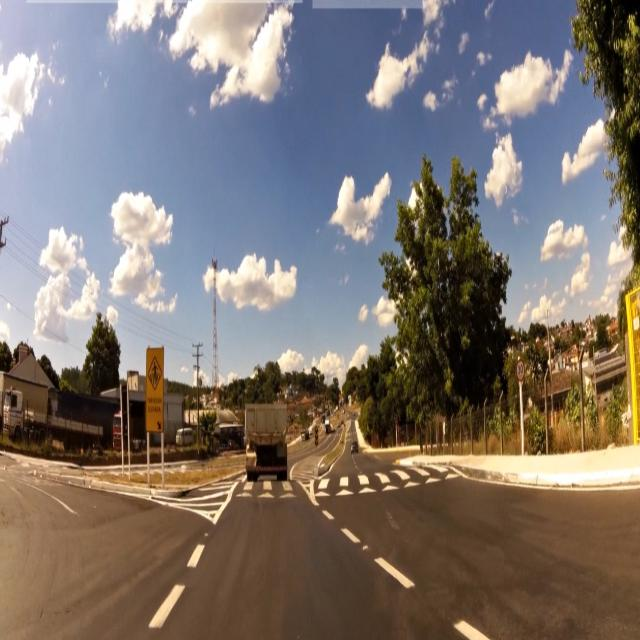A-32b: (148, 356, 162, 393)
